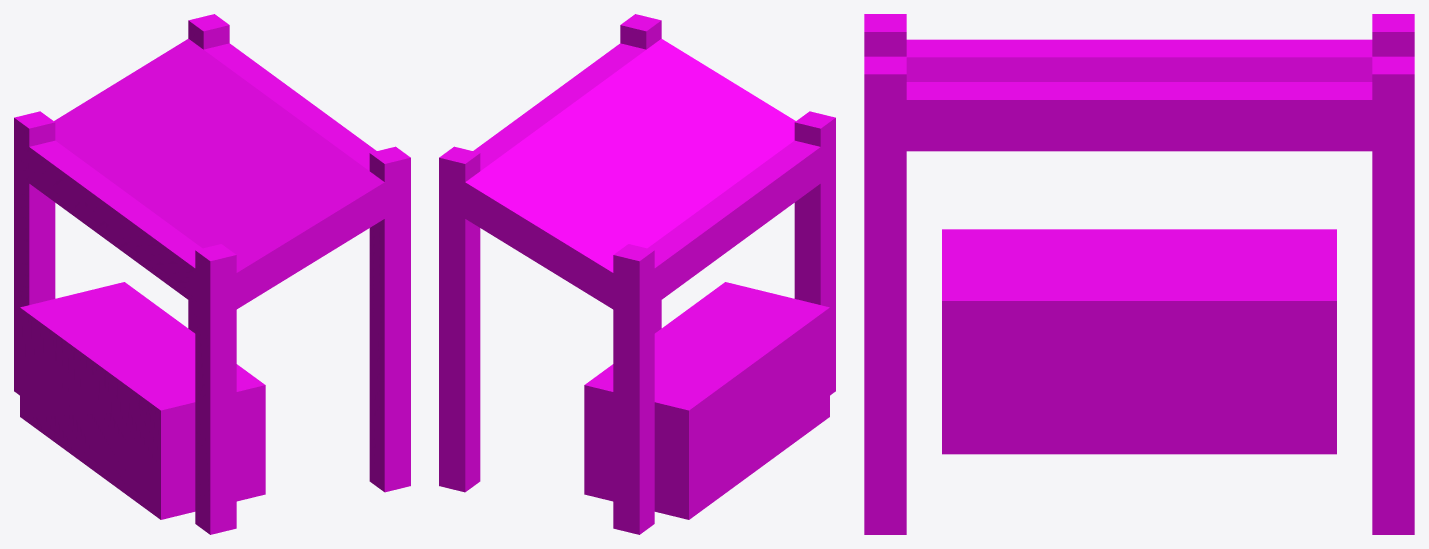
File: ext_city_stall002.fbx
3 renders of one model, left to right at view 1: azimuth 30°, elevation 25°; view 2: azimuth 150°, elevation 25°; view 3: azimuth 270°, elevation 25°, orthographic. The views are drawn at different scales.
Parts seen in each view (by area): view 1: ext_city_stall002; view 2: ext_city_stall002; view 3: ext_city_stall002.
Boxes of the visible parts, bbox=[...] form: ext_city_stall002: bbox=[14, 14, 410, 534]; ext_city_stall002: bbox=[439, 14, 835, 534]; ext_city_stall002: bbox=[864, 14, 1414, 534].
Bounding box in the file's own units: 3.19 × 4.5 × 4.88.
